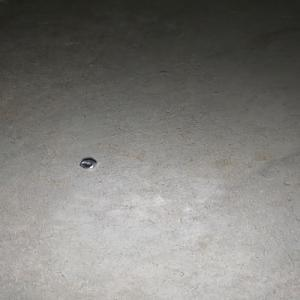Nut: (79, 159, 96, 169)
